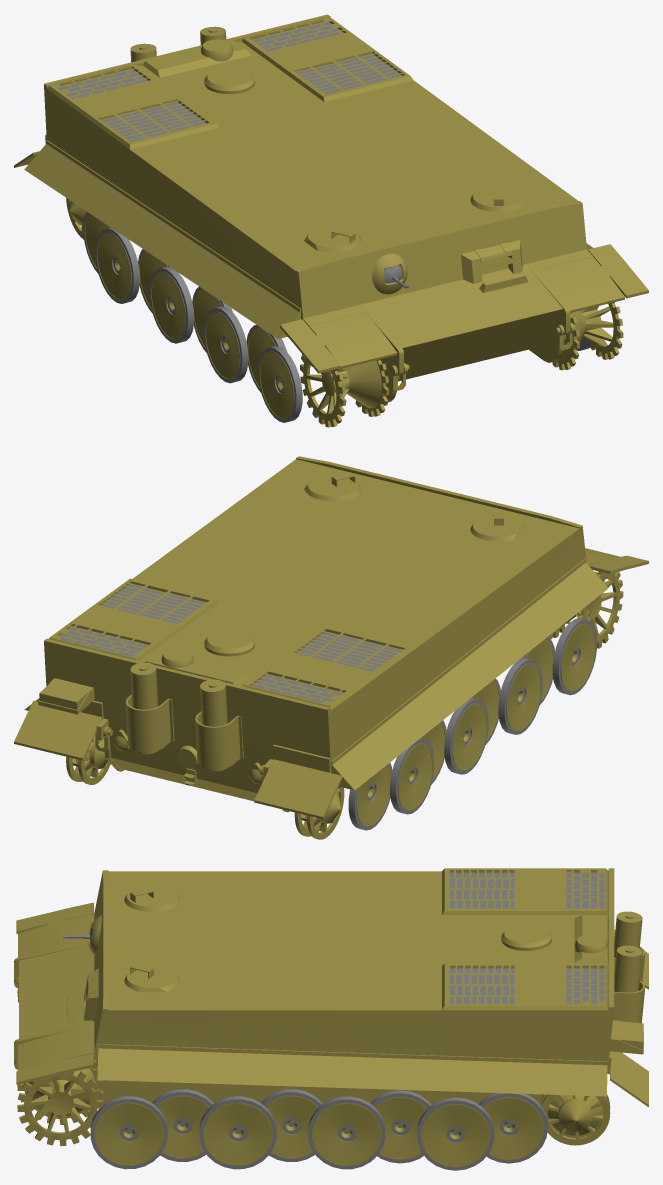
File: body2.fbx
3 renders of one model, top to bottom at view 1: azimuth 30°, elevation 25°; view 2: azimuth 150°, elevation 25°; view 3: azimuth 270°, elevation 25°, orthographic.
Visible parts, largest first — view 1: Tiger (Chassis); view 2: Tiger (Chassis); view 3: Tiger (Chassis).
Boxes of the visible parts, x1=… form: Tiger (Chassis): x1=14, y1=14, x2=648, y2=427; Tiger (Chassis): x1=14, y1=456, x2=648, y2=839; Tiger (Chassis): x1=14, y1=868, x2=648, y2=1170.
Size of the model in its own units: 354 by 171 by 586.
